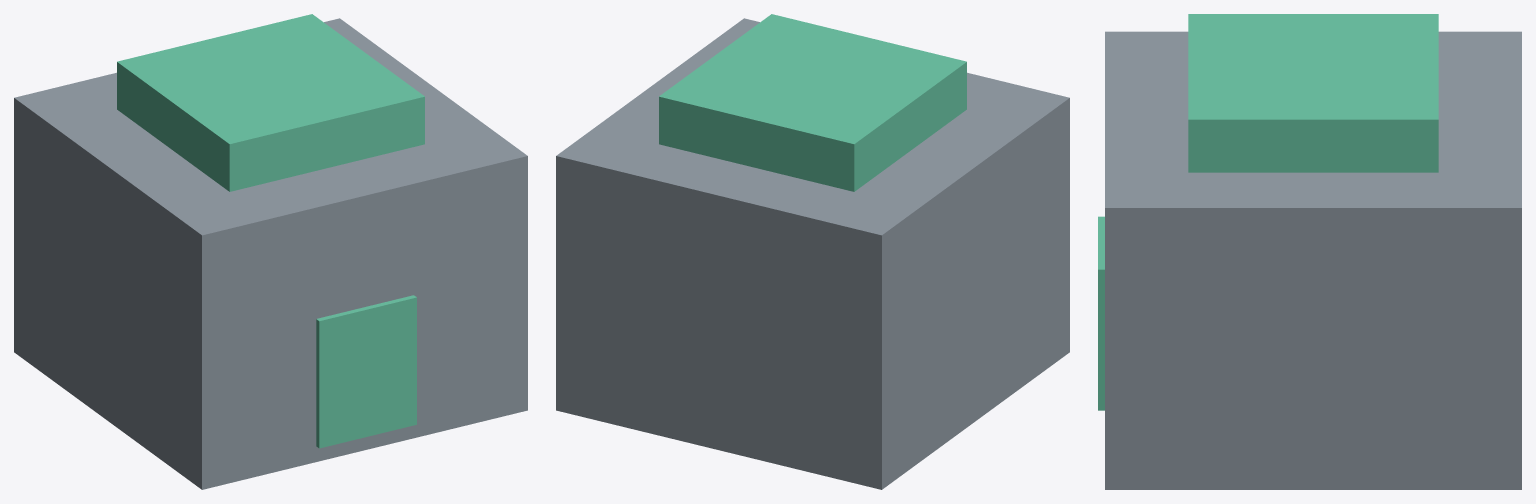
File: CO_TechCenter_LOD0.glb
The picture shows the model from 3 angles, left to right: view 1: azimuth 30°, elevation 25°; view 2: azimuth 150°, elevation 25°; view 3: azimuth 270°, elevation 25°; orthographic projection. The views are drawn at different scales.
Visible parts, largest first — view 1: EntranceGate; view 2: EntranceGate; view 3: EntranceGate.
Boxes of the visible parts, x1,y1,x2,y2 form: EntranceGate: (14, 14, 527, 489); EntranceGate: (556, 14, 1069, 489); EntranceGate: (1098, 14, 1521, 489).
Size of the model in its own units: 600 by 532 by 610.
